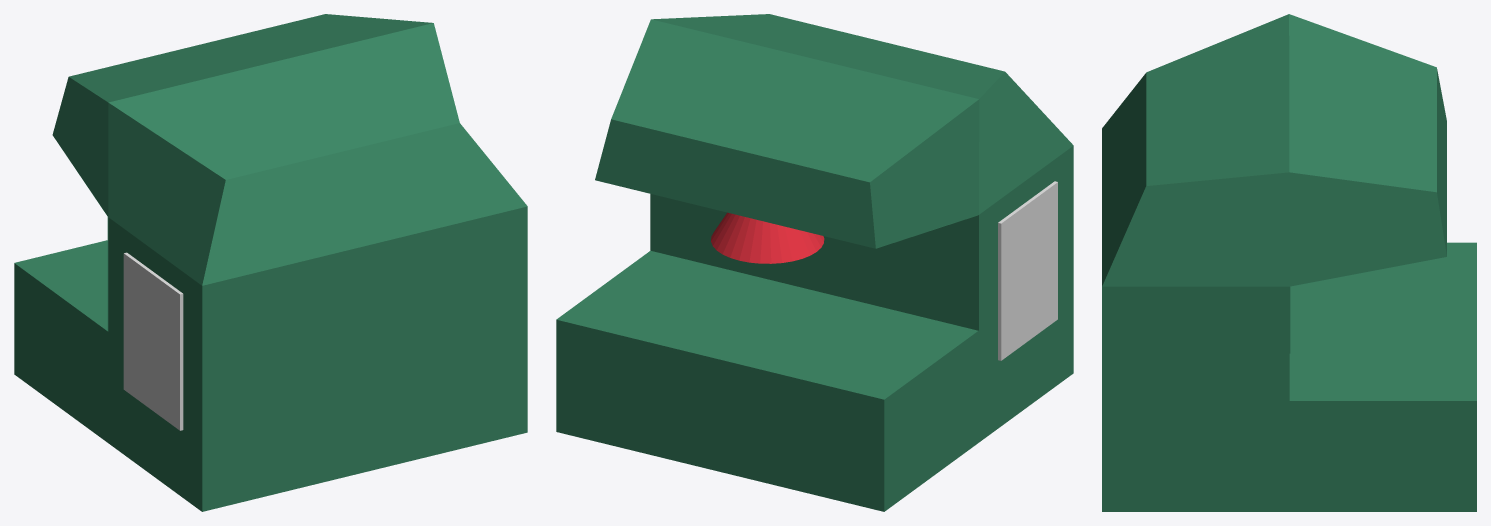
Rendered from shlif.fbx.
3 renders of one model, left to right at view 1: azimuth 30°, elevation 25°; view 2: azimuth 150°, elevation 25°; view 3: azimuth 270°, elevation 25°, orthographic.
Parts seen in each view (by area): view 1: Shlif, screen; view 2: Shlif, screen, N1; view 3: Shlif.
Part boxes in pixels (bbox=[...]): Shlif: bbox=[14, 14, 527, 511]; screen: bbox=[123, 252, 183, 430]; Shlif: bbox=[556, 14, 1073, 511]; screen: bbox=[998, 181, 1057, 360]; N1: bbox=[711, 212, 824, 263]; Shlif: bbox=[1102, 14, 1476, 511].
Size of the model in its own units: 202 by 200 by 200.
